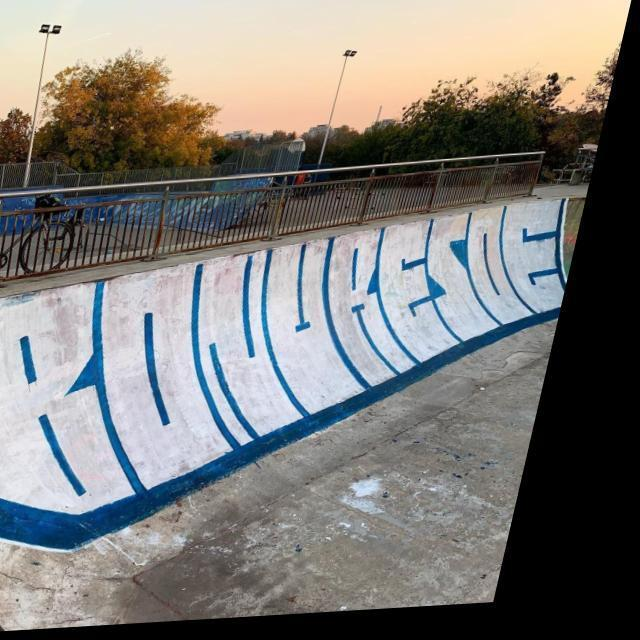-: (0, 203, 581, 573)
